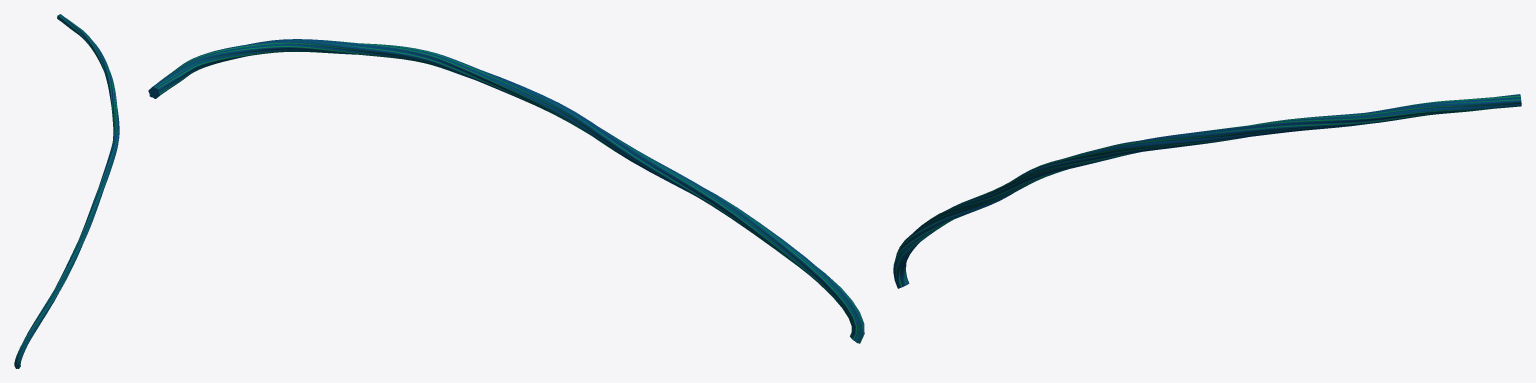
The model's file is cables 3.FBX.
3 renders of one model, left to right at view 1: azimuth 30°, elevation 25°; view 2: azimuth 150°, elevation 25°; view 3: azimuth 270°, elevation 25°, orthographic. The views are drawn at different scales.
Parts seen in each view (by area): view 1: Loft004; view 2: Loft004; view 3: Loft004.
Boxes of the visible parts, bbox=[...] form: Loft004: bbox=[14, 14, 119, 368]; Loft004: bbox=[148, 39, 864, 343]; Loft004: bbox=[893, 94, 1521, 288].
Size of the model in its own units: 635 by 573 by 844.
